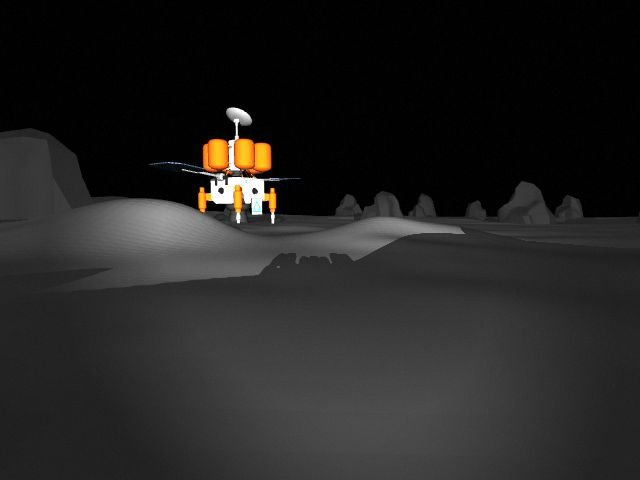homebase: (149, 101, 305, 231)
